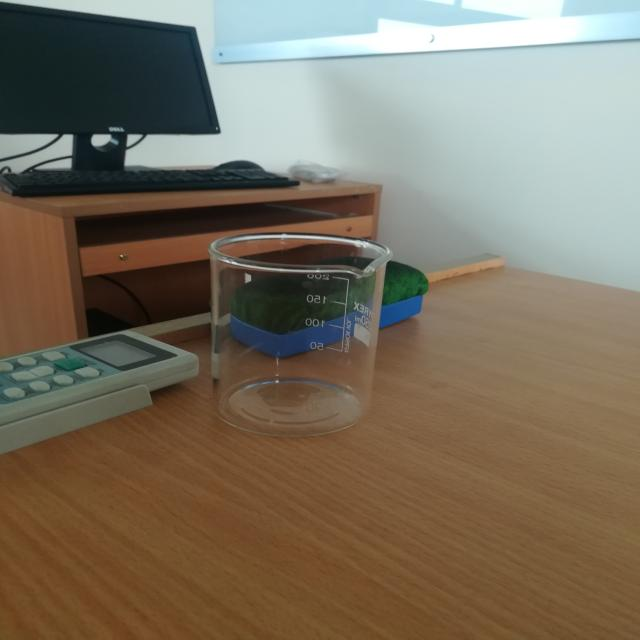Beaker: (153, 202, 445, 454)
